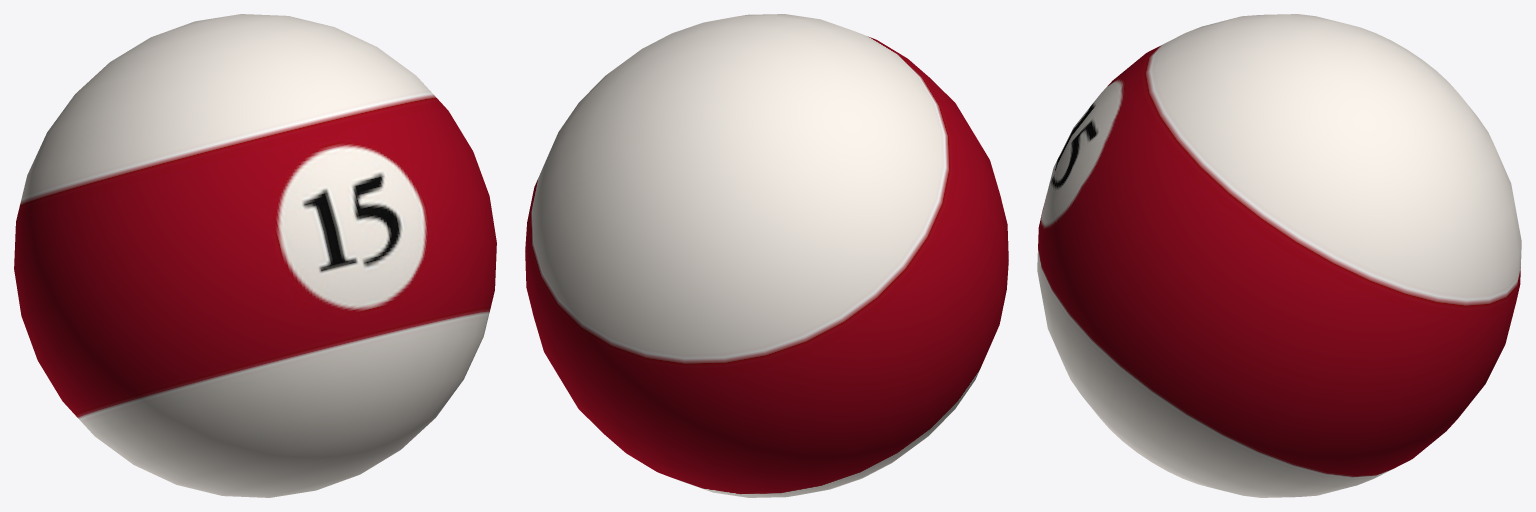
The model's file is semi_brown.glb.
3 views of the same model, side by side, from view 1: azimuth 30°, elevation 25°; view 2: azimuth 150°, elevation 25°; view 3: azimuth 270°, elevation 25° (orthographic).
Visible parts, largest first — view 1: Ball15_06 - Default_0; view 2: Ball15_06 - Default_0; view 3: Ball15_06 - Default_0.
Boxes of the visible parts, x1=… form: Ball15_06 - Default_0: x1=14, y1=14, x2=496, y2=497; Ball15_06 - Default_0: x1=525, y1=14, x2=1008, y2=497; Ball15_06 - Default_0: x1=1037, y1=14, x2=1521, y2=497.
Size of the model in its own units: 37.86 by 37.78 by 37.78.
1 material, 1 textured.
